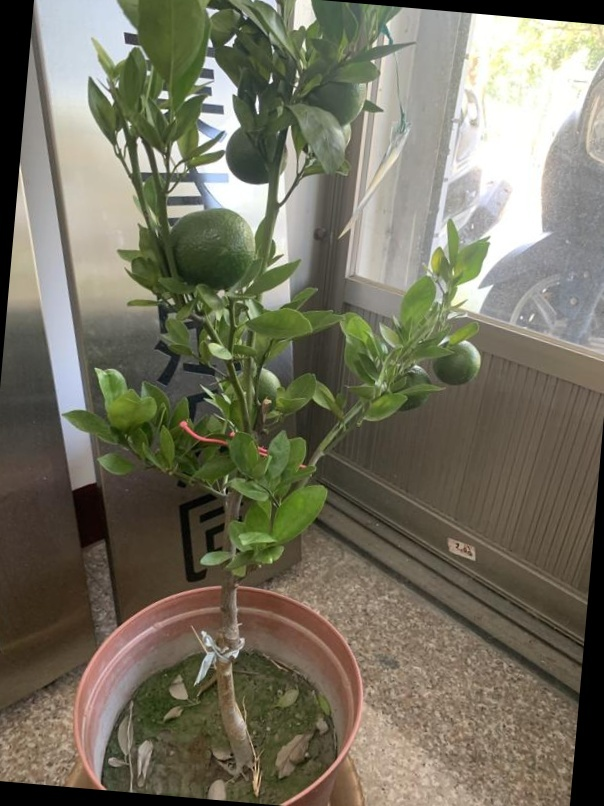Tangerine: (170, 209, 257, 290), (222, 120, 291, 189), (437, 340, 482, 387)
